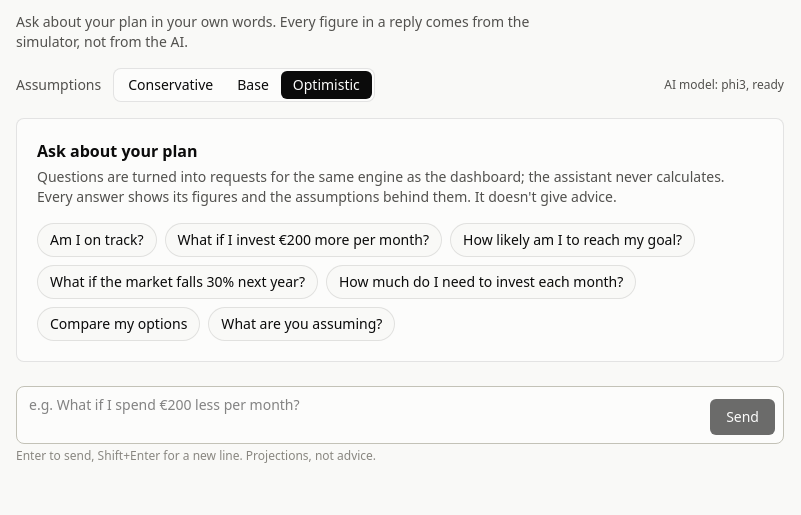
Ask page › shows the amount for the chosen share next to the one at the assumed return
Type "How much would I need to invest to be 90% sure?" into the text box with id "chat-input".
click(364, 415); type("How much would I need to invest to be 90% sure?")  # box [25,395,702,435]
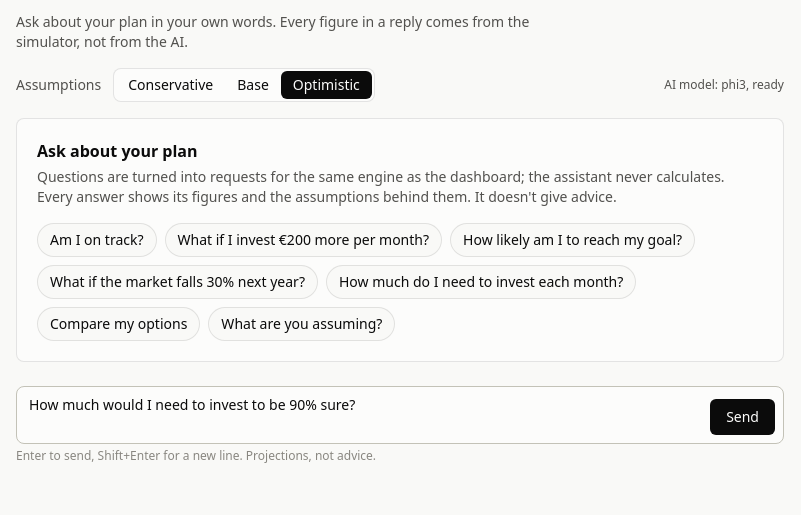
Submit the form, box [16,378,784,480]
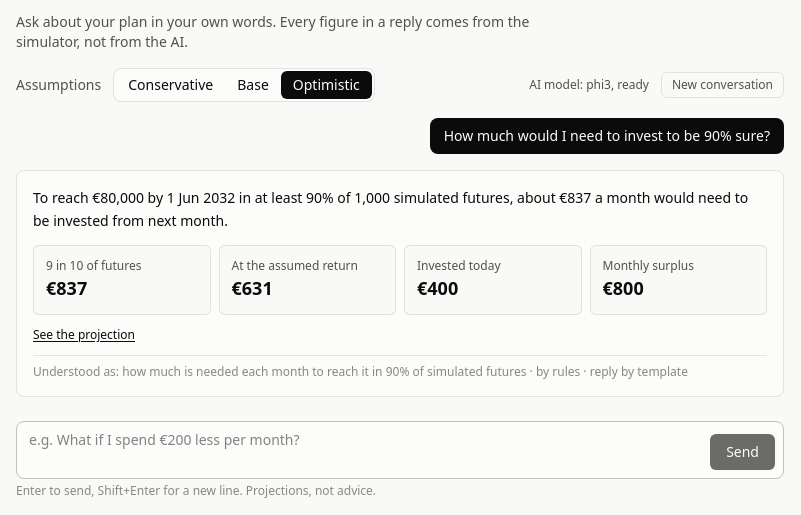
Check: the element named "Reply: answered" shows "Understood as: how much is needed each month to reach it in 90% of simulated futures", box [33,362,688,380]
